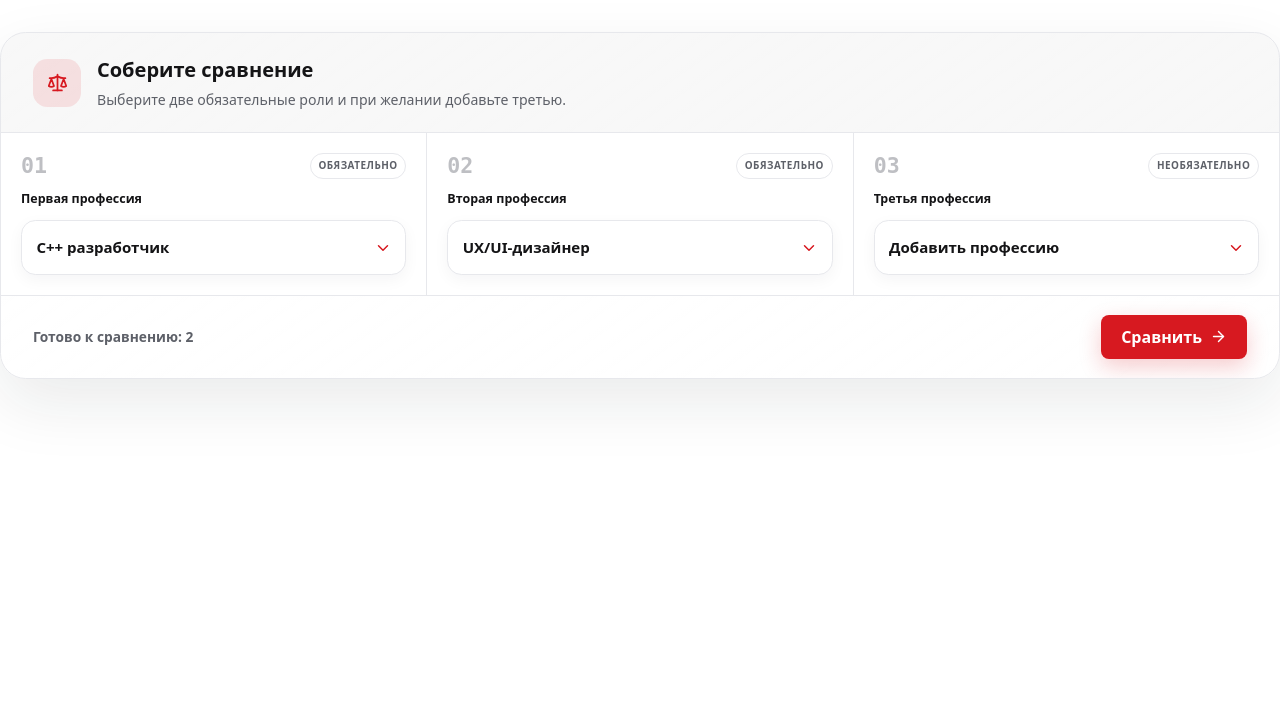
Test: analytics components › prefers a sourced market benchmark and keeps direction salary as the last fallback
The width and height of the screenshot is (1280, 720).
Click the button "Сравнить" at [1174, 337], box [1101,315,1247,359]
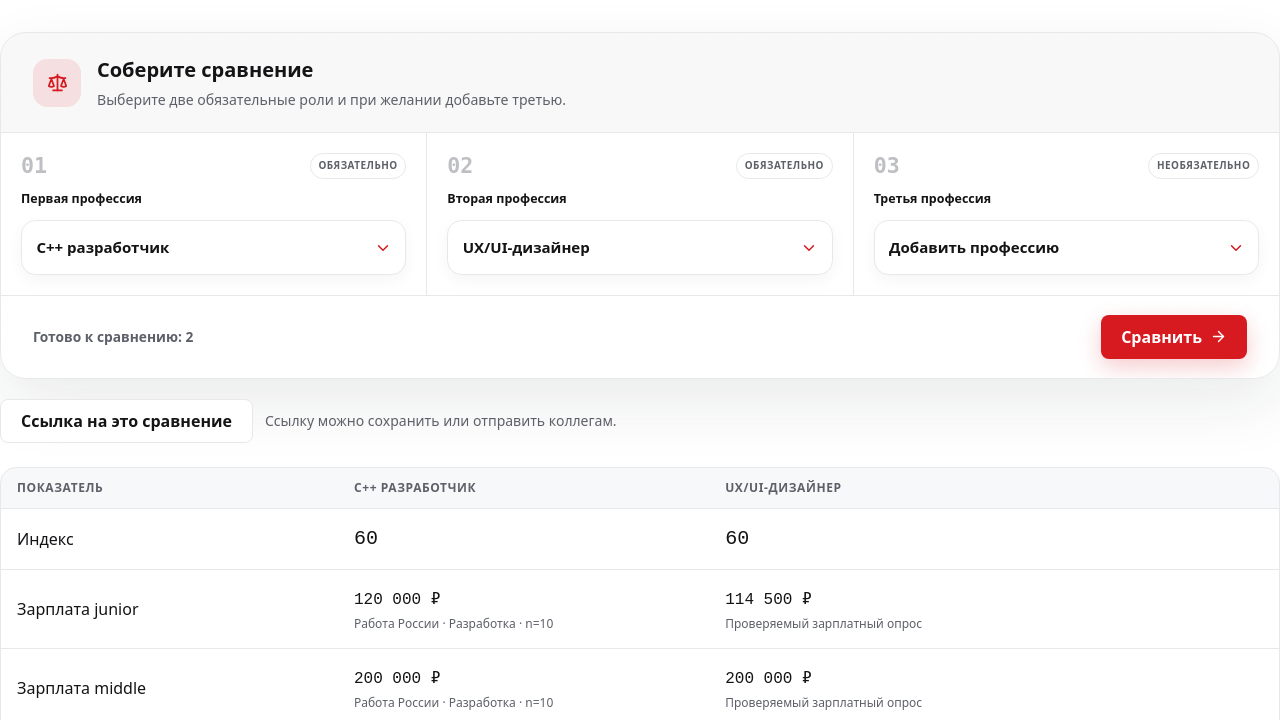
Expected: the text "120 000 ₽" is shown once, [354,591,440,609]
Expected: the text "114 500 ₽" is shown once, [725,591,812,609]
Expected: the text "200 000 ₽" is shown 2 times, [354,670,440,688]; [725,670,812,688]
